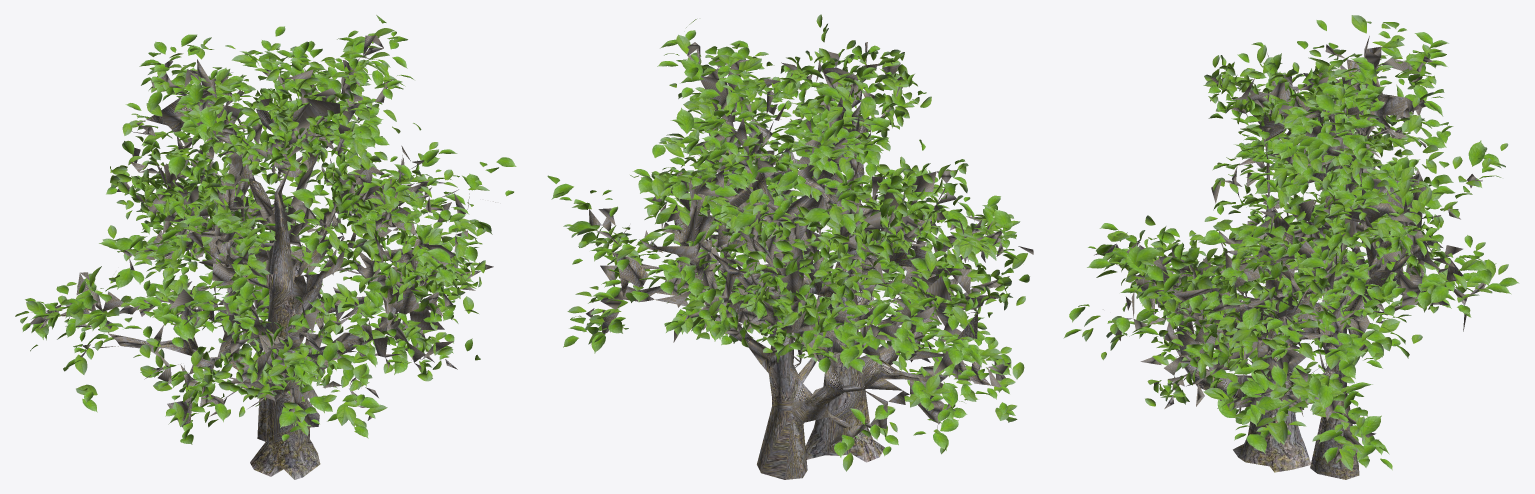
Rendered from nat_trees2.glb.
3 renders of one model, left to right at view 1: azimuth 30°, elevation 25°; view 2: azimuth 150°, elevation 25°; view 3: azimuth 270°, elevation 25°, orthographic. The views are drawn at different scales.
Parts seen in each view (by area): view 1: broad_a, broad_b; view 2: broad_a, broad_b; view 3: broad_a, broad_b.
Part boxes in pixels (x1=…): broad_a: x1=15, y1=15, x2=516, y2=444; broad_b: x1=106, y1=43, x2=485, y2=479; broad_a: x1=547, y1=19, x2=1033, y2=479; broad_b: x1=651, y1=14, x2=1029, y2=462; broad_a: x1=1063, y1=15, x2=1519, y2=479; broad_b: x1=1119, y1=42, x2=1472, y2=472.
Size of the model in its own units: 8.99 by 7.28 by 7.15.
2 materials, 2 textured.
